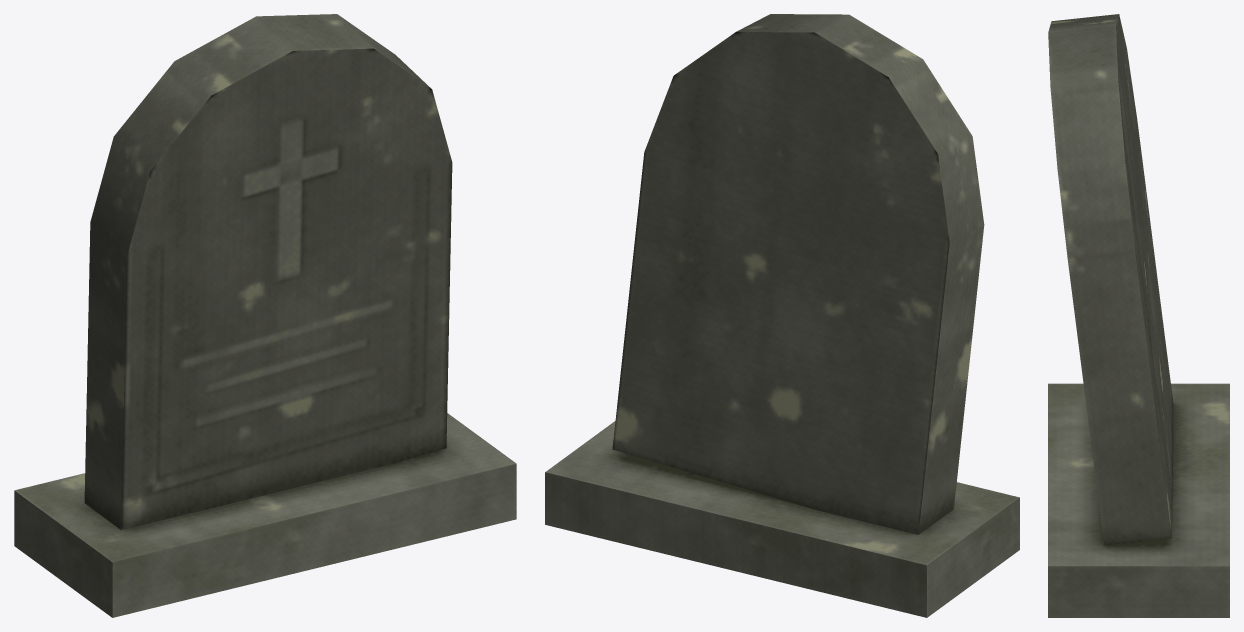
Rendered from Gravestone_Rounded_01.obj.
3 renders of one model, left to right at view 1: azimuth 30°, elevation 25°; view 2: azimuth 150°, elevation 25°; view 3: azimuth 270°, elevation 25°, orthographic. The views are drawn at different scales.
Visible parts, largest first — view 1: Gravestone_Rounded_01; view 2: Gravestone_Rounded_01; view 3: Gravestone_Rounded_01.
Boxes of the visible parts, box(x1,y1,x2,y2) form: Gravestone_Rounded_01: box(14, 14, 516, 617); Gravestone_Rounded_01: box(545, 14, 1019, 617); Gravestone_Rounded_01: box(1048, 14, 1229, 617).
Size of the model in its own units: 0.76 by 0.9535 by 0.32.
1 material, 1 textured.
